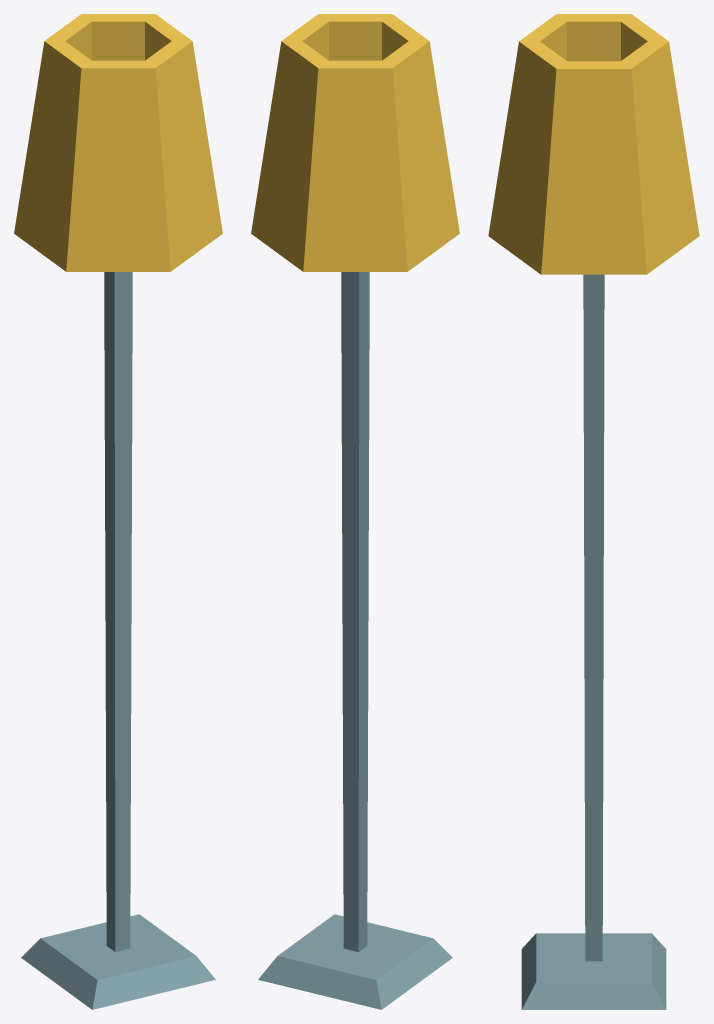
Rendered from lamp.obj.
The picture shows the model from 3 angles, left to right: view 1: azimuth 30°, elevation 25°; view 2: azimuth 150°, elevation 25°; view 3: azimuth 270°, elevation 25°; orthographic projection.
Visible parts, largest first — view 1: lampRoundFloor; view 2: lampRoundFloor; view 3: lampRoundFloor.
Boxes of the visible parts, left/top/right/bottom form: lampRoundFloor: left=14, top=14, right=222, bottom=1009; lampRoundFloor: left=251, top=14, right=459, bottom=1009; lampRoundFloor: left=488, top=14, right=699, bottom=1009.
Bounding box in the file's own units: 0.152 × 0.86 × 0.1756.
